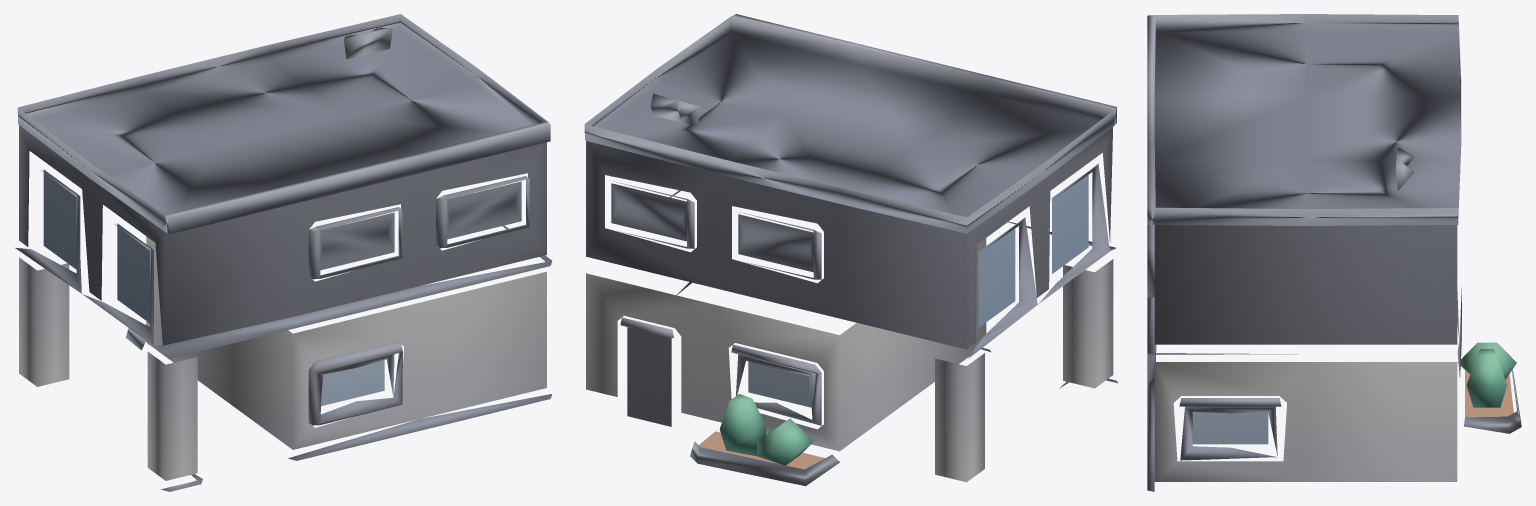
3 views of the same model, side by side, from view 1: azimuth 30°, elevation 25°; view 2: azimuth 150°, elevation 25°; view 3: azimuth 270°, elevation 25° (orthographic). The views are drawn at different scales.
Bounding box in the file's own units: 9.87 × 7.22 × 7.92.
